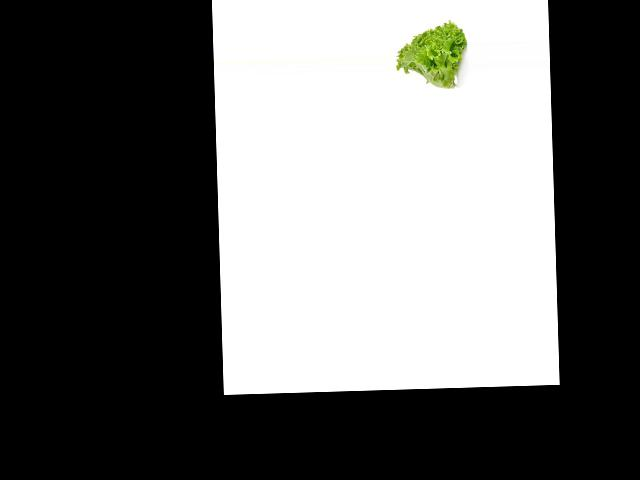lettuce: (392, 16, 468, 94)
